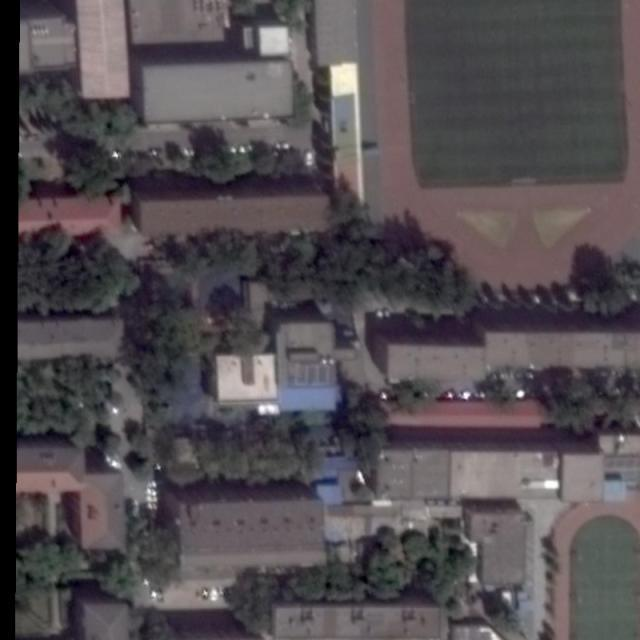vehicle: (102, 453, 118, 468), (304, 150, 314, 166), (144, 495, 161, 504), (210, 586, 219, 602), (145, 479, 159, 489), (144, 504, 159, 512), (145, 489, 159, 497), (202, 586, 210, 600)
